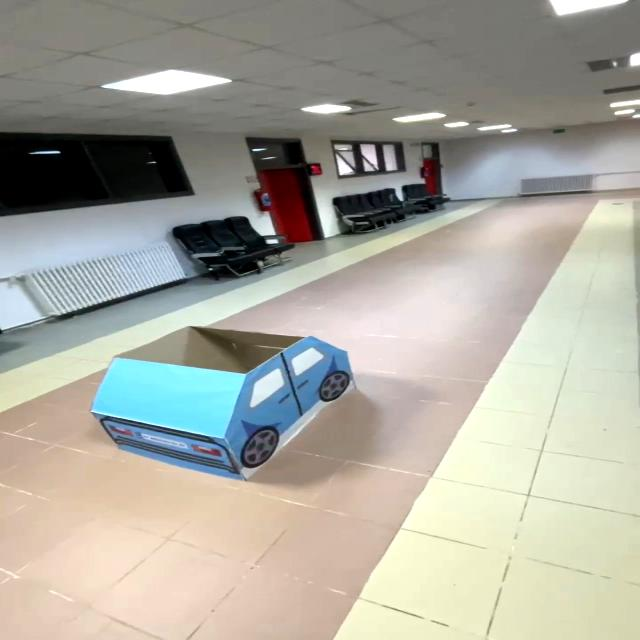blue_car: (73, 317, 385, 487)
